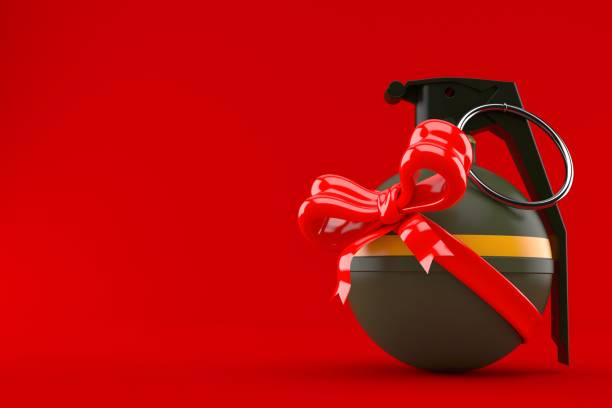e1: (339, 79, 576, 375)
